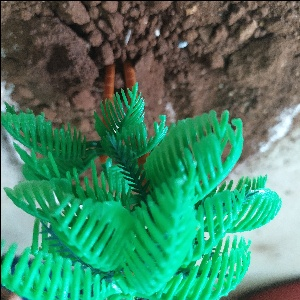plant: (1, 45, 287, 300)
